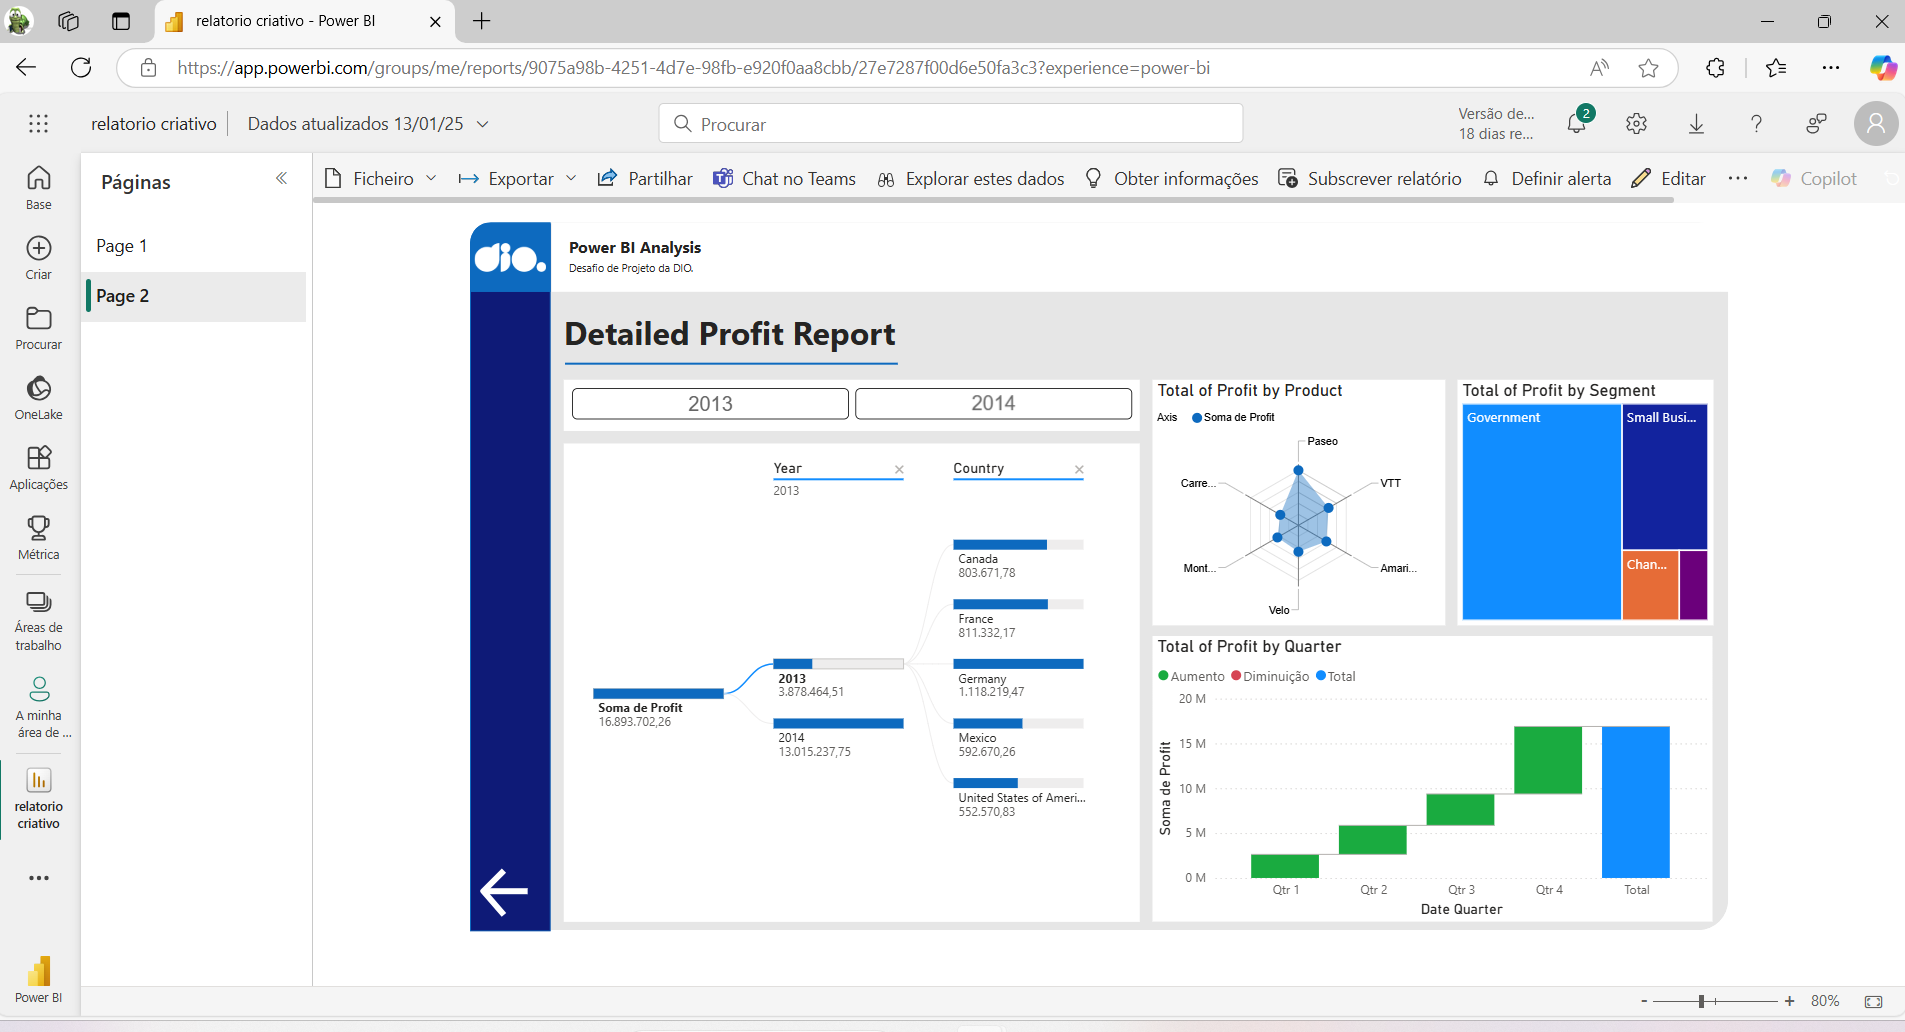

What the dashboard file says about the page in this screenshot:
{"tool":"powerbi","page":{"name":"Page 2","canvas":[1280,720],"ordinal":1},"visuals":[{"type":"group","id":"g1","title":"layout page","box":[0,6.1,1258.3,709.2],"z":0},{"type":"shape","box":[0,6.1,1258.3,708],"z":0,"group":"g1"},{"type":"textbox","box":[88.6,90,360,58.6],"z":0,"group":"g2"},{"type":"shape","box":[0,7.3,80.7,708],"z":1000,"group":"g1"},{"type":"shape","box":[94.3,131.4,332.9,32.9],"z":1000,"group":"g2"},{"type":"actionButton","title":"Page 1","box":[5.7,647.1,67.1,58.6],"z":1000},{"type":"shape","box":[0,6.1,80.7,69.7],"z":2000,"group":"g1"},{"type":"group","id":"g2","title":"Title report","box":[88.6,90,360,74.3],"z":2000},{"type":"image","title":"logo_DIO","box":[0,6.1,80.7,69.7],"z":3000,"group":"g1"},{"type":"ChicletSlicer1448559807354","fields":{"Category":["financials.Date.Variation.Date Hierarchy.Year"]},"box":[94.3,164.3,575.7,51.4],"z":3000},{"type":"shape","box":[80.7,6.1,1177.6,69.7],"z":4000,"group":"g1"},{"type":"decompositionTreeVisual","fields":{"ExplainBy":["financials.Date.Variation.Date Hierarchy.Year","financials.Country"],"Analyze":["Sum(financials.Profit)"]},"box":[94.3,227.1,575.7,478.6],"z":4000},{"type":"textbox","box":[94.2,14.7,708,53.8],"z":5000,"group":"g1"},{"type":"RadarChart1446119667547","title":"Total of Profit by Product","fields":{"Y":["Sum(financials.Profit)"],"Category":["financials.Product"]},"box":[682.9,164.3,292.9,245.7],"z":5000},{"type":"treemap","title":"Total of Profit by Segment","fields":{"Values":["Sum(financials.Profit)"],"Group":["financials.Segment"]},"box":[987.1,164.3,255.7,245.7],"z":5001},{"type":"waterfallChart","title":"Total of Profit by Quarter","fields":{"Y":["Sum(financials.Profit)"],"Category":["financials.Date.Variation.Date Hierarchy.Quarter"]},"box":[682.9,420,560,285.7],"z":5002}]}

Visuals, with their boxes on the page's 1280x720 design canvas (x1, y1, x2, y2). These are canvas units, not pixel positions in the 1905x1032 screenshot, which may show the page scaled, cropped or inside an application window:
"layout page" group: (0, 6, 1258, 715)
shape: (0, 6, 1258, 714)
textbox: (89, 90, 449, 149)
shape: (0, 7, 81, 715)
shape: (94, 131, 427, 164)
"Page 1" actionButton: (6, 647, 73, 706)
shape: (0, 6, 81, 76)
"Title report" group: (89, 90, 449, 164)
"logo_DIO" image: (0, 6, 81, 76)
ChicletSlicer1448559807354 - financials.Date.Variation.Date Hierarchy.Year: (94, 164, 670, 216)
shape: (81, 6, 1258, 76)
decompositionTreeVisual - financials.Date.Variation.Date Hierarchy.Year x financials.Country: (94, 227, 670, 706)
textbox: (94, 15, 802, 68)
"Total of Profit by Product" RadarChart1446119667547: (683, 164, 976, 410)
"Total of Profit by Segment" treemap: (987, 164, 1243, 410)
"Total of Profit by Quarter" waterfallChart: (683, 420, 1243, 706)
